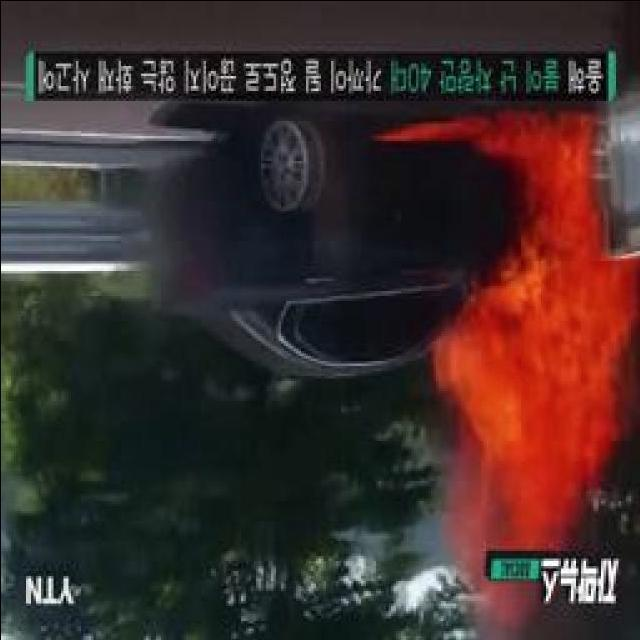Fire: (466, 109, 620, 522)
